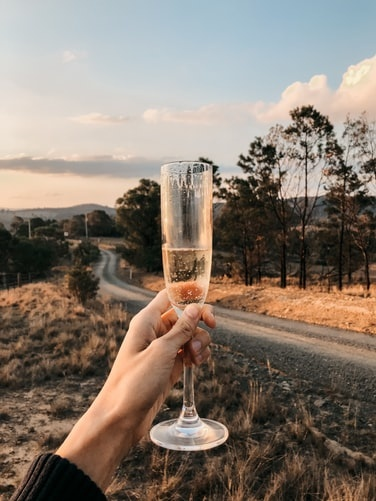whiskey: (151, 159, 220, 449)
